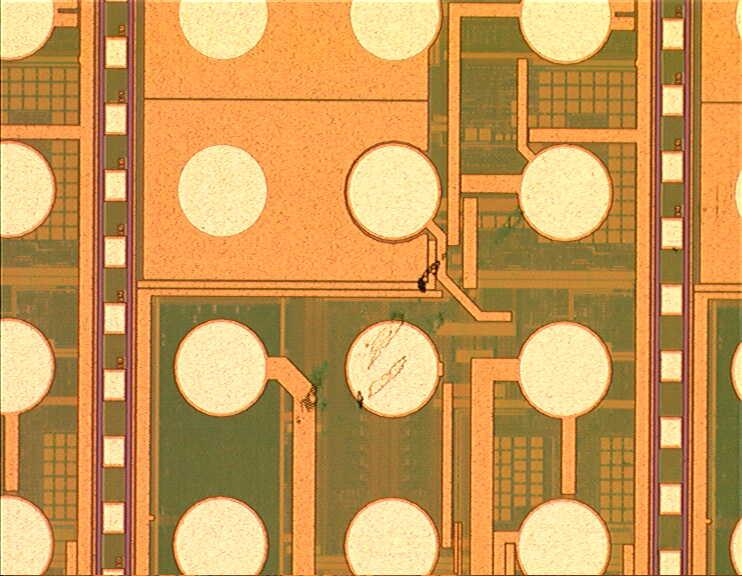SCRATCH: (286, 193, 541, 434)
